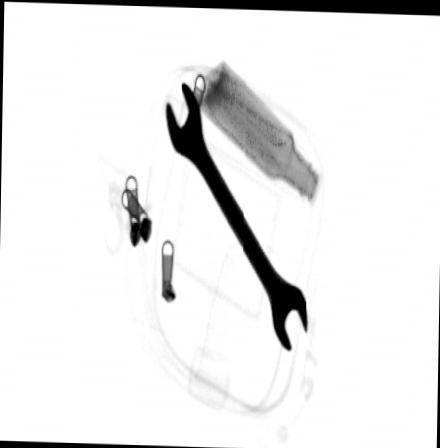Wrench: (164, 77, 309, 352)
